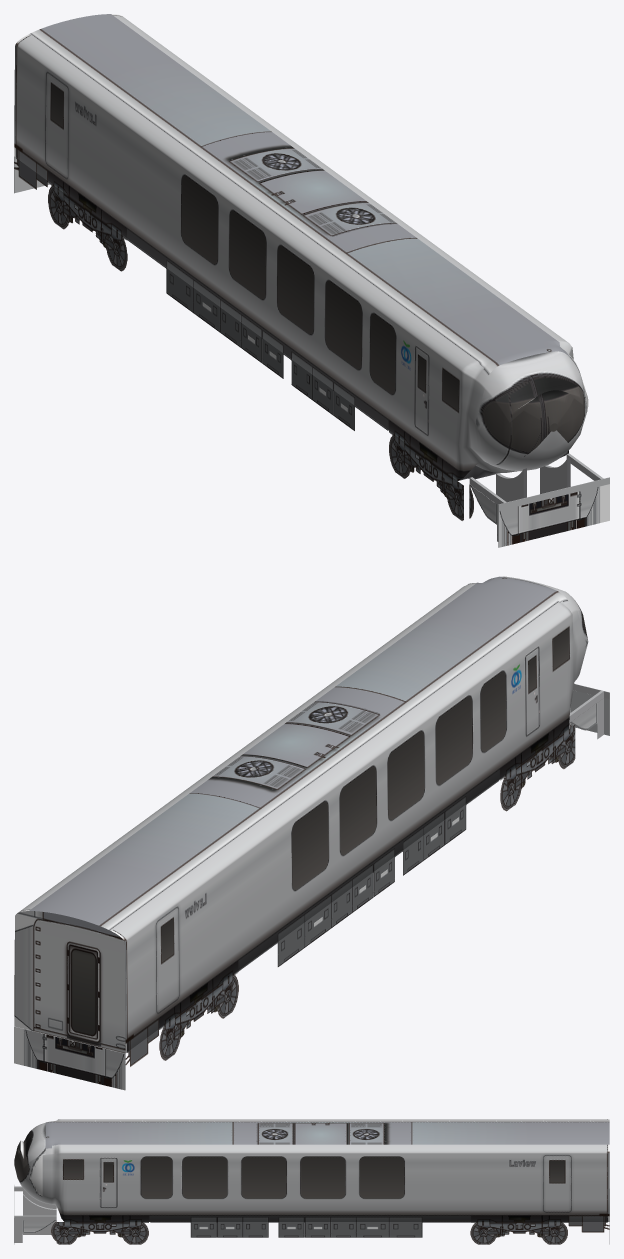
Rendered from car1.glb.
3 views of the same model, one above another, from view 1: azimuth 30°, elevation 25°; view 2: azimuth 150°, elevation 25°; view 3: azimuth 270°, elevation 25° (orthographic). The views are drawn at different scales.
Parts seen in each view (by area): view 1: seibu-001-car1; view 2: seibu-001-car1; view 3: seibu-001-car1.
Part boxes in pixels (box(x1,y1,x2,y2)): seibu-001-car1: box(14, 14, 609, 547); seibu-001-car1: box(14, 576, 609, 1090); seibu-001-car1: box(14, 1119, 609, 1244).
Size of the model in its own units: 2.8 by 3.84 by 21.11.
Materials: 10 (9 with a texture image).
